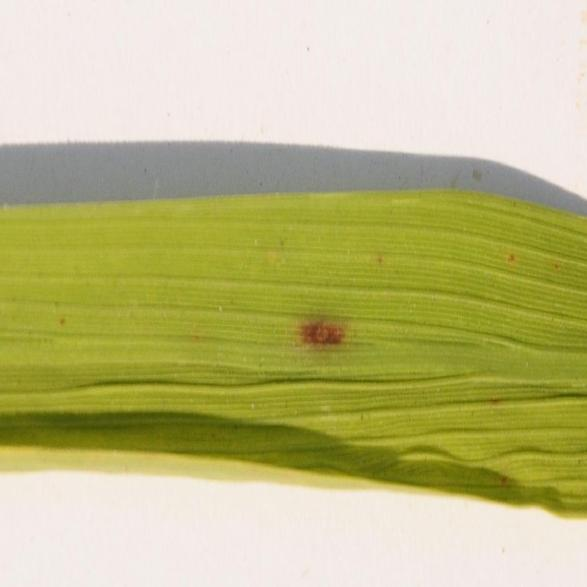Brown_Spot: (285, 264, 361, 382)
